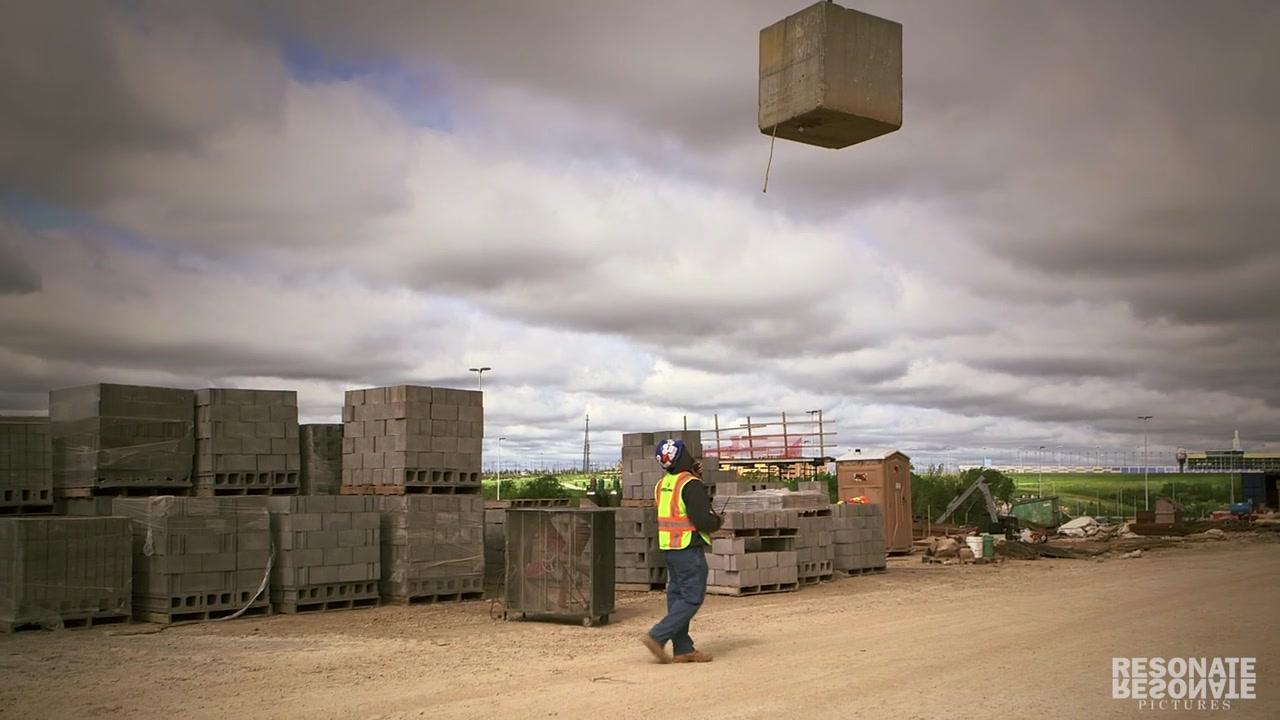vest: (651, 471, 717, 549)
